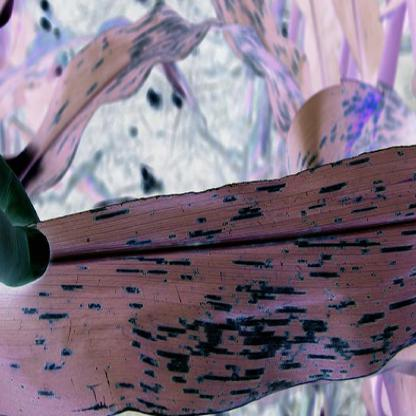corn gray leaf spot: (55, 134, 415, 414)
